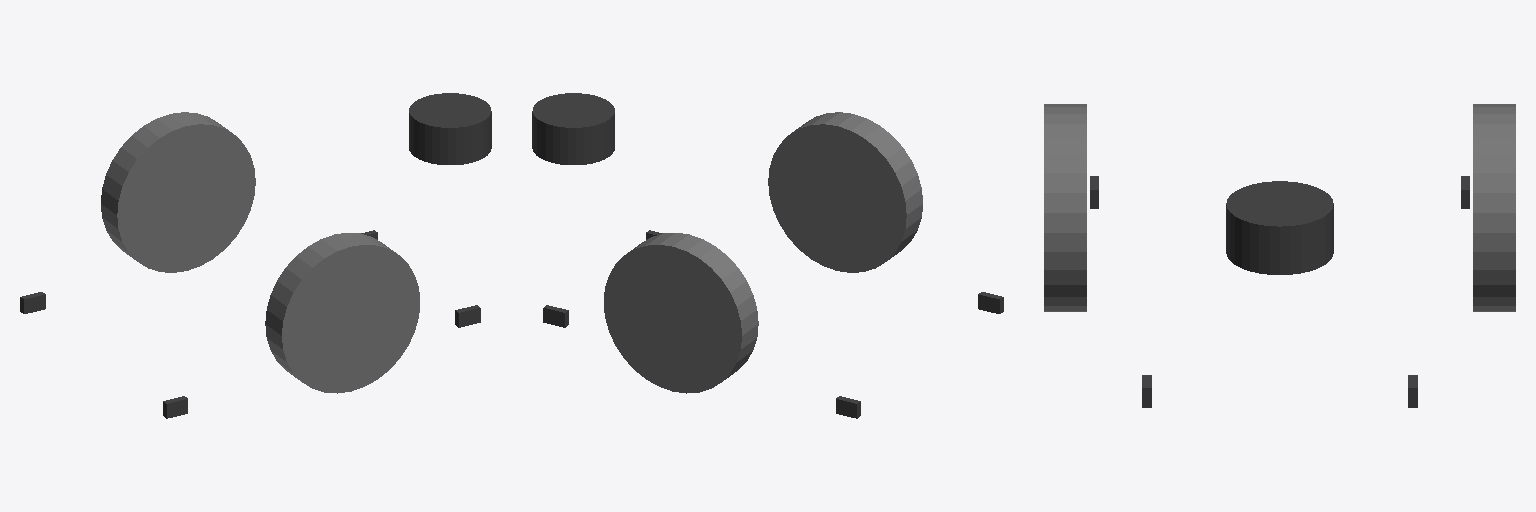
URDF robot description (pallet_amr):
<?xml version="1.0"?>

<robot xmlns:xacro="http://www.ros.org/wiki/xacro" name="pallet_amr">
  
  <link name="base_link">
  <inertial>
      <origin xyz="-0.011362 -4.2533E-05 0.1929" rpy="0 0 0" />
      <mass value="39.713" />
      <inertia ixx="0.886" ixy="-0.000271835" ixz="-2.8373E-05"
              iyy="1.3696" iyz="0.00009206" izz="1.70325" />
    </inertial>
    <visual>
      <origin xyz="0 0 0" rpy="0 0 0" />
      <geometry>
        <mesh
          filename="file:///home/ohheemin/ros2_ws/src/gazebo_test_bed/urdf/pallet_amr/meshes/base/base_link.STL" />
      </geometry>
      <material name="">
        <color rgba="0.792156862745098 0.819607843137255 0.925490196078431 1" />
      </material>
    </visual>
    <collision>
      <origin xyz="0 0 0.20" rpy="0 0 0" />
      <geometry>
        <box size="0.60 0.32 0.15" />
      </geometry>
    </collision>
  </link>

  <link name="upper_Link">
  <inertial>
    <origin xyz="-8.906531742176793e-05 -9.967567934063133e-09 0.04343908659883667" rpy="0 0 0" />
    <mass value="42.40379539952767" />
    <inertia ixx="2.768532191340667" ixy="-7.3168880844423e-07" ixz="-7.540600673085133e-06"
            iyy="4.79188823082035" iyz="8.091853689853833e-08" izz="7.09446575858375" />
  </inertial>
    <visual>
      <origin xyz="0 0 0" rpy="0 0 0" />
      <geometry>
        <mesh
          filename="file:///home/ohheemin/ros2_ws/src/gazebo_test_bed/urdf/pallet_amr/meshes/upper/upper_Link.STL" />
      </geometry>
      <material name="">
        <color rgba="0.792156862745098 0.819607843137255 0.933333333333333 1" />
      </material>
    </visual>
    <collision>
      <origin xyz="0 0 0" rpy="0 0 0" />
      <geometry>
        <mesh filename="file:///home/ohheemin/ros2_ws/src/gazebo_test_bed/urdf/pallet_amr/meshes/upper/upper_Link.STL" />
      </geometry>
    </collision>
  </link>
  <joint name="upper_joint" type="fixed">
    <origin xyz="-0.015189 0 0.38256" rpy="0 0 0" />
    <parent link="base_link" />
    <child link="upper_Link" />
  </joint>

  
  <link name="control_Link">
    <inertial>
      <origin
        xyz="-0.369333566998196 0.00141093575416524 -0.349182398611436"
        rpy="0 0 0" />
      <mass
        value="0.420849252973467" />
      <inertia
        ixx="0.000918325122027237"
        ixy="1.40329557826722E-07"
        ixz="5.17111860552687E-07"
        iyy="0.000258354800112382"
        iyz="-2.56380411024392E-07"
        izz="0.000733000766338133" />
    </inertial>
    <visual>
      <origin
        xyz="0 0 0"
        rpy="0 0 0" />
      <geometry>
        <mesh
          filename="file:///home/ohheemin/ros2_ws/src/gazebo_test_bed/urdf/pallet_amr/meshes/control/control_Link.STL" />
      </geometry>
      <material
        name="">
        <color
          rgba="0.792156862745098 0.819607843137255 0.933333333333333 1" />
      </material>
    </visual>
    <collision>
      <origin
        xyz="0 0 0"
        rpy="0 0 0" />
      <geometry>
        <mesh
          filename="file:///home/ohheemin/ros2_ws/src/gazebo_test_bed/urdf/pallet_amr/meshes/control/control_Link.STL" />
      </geometry>
    </collision>
  </link>
  <joint
    name="control_joint"
    type="fixed">
    <origin
      xyz="-0.19699 -0.000381 0.46794"
      rpy="0 0 0" />
    <parent
      link="upper_Link" />
    <child
      link="control_Link" />
    <axis
      xyz="0 0 0" />
  </joint>


  <link
    name="pallet_Link">
    <inertial>
      <origin
        xyz="0.0499988822980956 0.200000855577175 -0.00962525670211267"
        rpy="0 0 0" />
      <mass
        value="14.4096676314967" />
      <inertia
        ixx="1.03985775162232"
        ixy="2.524159247993585E-05"
        ixz="4.73712839888941E-07"
        iyy="1.63747936847568"
        iyz="-3.85080736243151E-07"
        izz="2.629809904192765" />
    </inertial>
    <visual>
      <origin
        xyz="0 0 0"
        rpy="0 0 0" />
      <geometry>
        <mesh
          filename="file:///home/ohheemin/ros2_ws/src/gazebo_test_bed/urdf/pallet_amr/meshes/pallet/pallet_Link.STL" />
      </geometry>
      <material
        name="">
        <color
          rgba="0.250980392156863 0.501960784313725 0.501960784313725 1" />
      </material>
    </visual>
    <collision>
      <origin
        xyz="0 0 0"
        rpy="0 0 0" />
      <geometry>
        <mesh
          filename="file:///home/ohheemin/ros2_ws/src/gazebo_test_bed/urdf/pallet_amr/meshes/pallet/pallet_Link.STL" />
      </geometry>
    </collision>
  </link>
  <joint
    name="pallet_joint"
    type="fixed">
    <origin
      xyz="0.14699 -0.19962 -0.13294"
      rpy="0 0 0" />
    <parent
      link="control_Link" />
    <child
      link="pallet_Link" />
    <axis
      xyz="0 0 0" />
  </joint>

  <link name="wheel_left">
    <inertial>
      <origin xyz="0 0 0" rpy="0 0 0"/>
      <mass value="1.5"/>
      <inertia 
        ixx="0.00372" ixy="0" ixz="0"
        iyy="0.00704" iyz="0"
        izz="0.00372"/>
    </inertial>
    <visual>
      <origin xyz="0 0 0" rpy="1.5708 0 0"/>
      <geometry>
        <cylinder radius="0.09684" length="0.04"/>
      </geometry>
      <material name="gray">
        <color rgba="0.5 0.5 0.5 1"/>
      </material>
    </visual>
    <collision>
      <origin xyz="0 0 0" rpy="1.5708 0 0" />
      <geometry>
        <cylinder radius="0.09684" length="0.04" />
      </geometry>
    </collision>
  </link>
  <joint name="wheel_left_joint" type="continuous">
    <origin xyz="0.0 0.1991 0.09684" rpy="0 0 0" />
    <parent link="base_link" />
    <child link="wheel_left" />
    <axis xyz="0 1 0" />
  </joint>

  <link name="wheel_right">
    <inertial>
      <origin xyz="0 0 0" rpy="0 0 0"/>
      <mass value="1.5"/>
      <inertia 
        ixx="0.00372" ixy="0" ixz="0"
        iyy="0.00704" iyz="0"
        izz="0.00372"/>
    </inertial>
    <visual>
      <origin xyz="0 0 0" rpy="1.5708 0 0"/>
      <geometry>
        <cylinder radius="0.09684" length="0.04"/>
      </geometry>
      <material name="gray">
        <color rgba="0.5 0.5 0.5 1"/>
      </material>
    </visual>
    <collision>
      <origin xyz="0 0 0" rpy="1.5708 0 0" />
      <geometry>
        <cylinder radius="0.09684" length="0.04" />
      </geometry>
    </collision>
  </link>
  <joint name="wheel_right_joint" type="continuous">
    <origin xyz="0.0 -0.1991 0.09684" rpy="0 0 0" />
    <parent link="base_link" />
    <child link="wheel_right" />
    <axis xyz="0 1 0" />
  </joint>

  <joint name="caster_front_left_joint" type="fixed">
    <origin xyz="0.2182 0.1238 0.011" rpy="0 0 0"/>
    <parent link="base_link"/>
    <child link="caster_front_left"/>
  </joint>

  <link name="caster_front_left">
    <visual>
      <origin xyz="0 0 0" rpy="0 0 0"/>
      <geometry>
        <box size="0.030 0.009 0.020"/>
      </geometry>
      <material name="grey">
        <color rgba="0.3 0.3 0.3 1.0"/>
      </material>
    </visual>
    <collision>
      <origin xyz="0 0 0" rpy="0 0 0"/>
      <geometry>
        <box size="0.030 0.009 0.020"/>
      </geometry>
    </collision>
    <inertial>
      <origin xyz="0 0 0"/>
      <mass value="0.005"/>
      <inertia ixx="2.0e-7" ixy="0" ixz="0"
              iyy="5.42e-7" iyz="0"
              izz="4.09e-7"/>
    </inertial>
  </link>

  <joint name="caster_front_right_joint" type="fixed">
    <origin xyz="0.2182 -0.1238 0.011" rpy="0 0 0"/>
    <parent link="base_link"/>
    <child link="caster_front_right"/>
  </joint>

  <link name="caster_front_right">
    <visual>
      <origin xyz="0 0 0" rpy="0 0 0"/>
      <geometry>
        <box size="0.030 0.009 0.020"/>
      </geometry>
      <material name="grey">
        <color rgba="0.3 0.3 0.3 1.0"/>
      </material>
    </visual>
    <collision>
      <origin xyz="0 0 0" rpy="0 0 0"/>
      <geometry>
        <box size="0.030 0.009 0.020"/>
      </geometry>
    </collision>
    <inertial>
      <origin xyz="0 0 0"/>
      <mass value="0.005"/>
      <inertia ixx="2.0e-7" ixy="0" ixz="0"
              iyy="5.42e-7" iyz="0"
              izz="4.09e-7"/>
    </inertial>
  </link>

  <joint name="caster_back_left_joint" type="fixed">
    <origin xyz="-0.2182 0.1725 0.011" rpy="0 0 0"/>
    <parent link="base_link"/>
    <child link="caster_back_left"/>
  </joint>

  <link name="caster_back_left">
    <visual>
      <origin xyz="0 0 0" rpy="0 0 0"/>
      <geometry>
        <box size="0.030 0.009 0.020"/>
      </geometry>
      <material name="grey">
        <color rgba="0.3 0.3 0.3 1.0"/>
      </material>
    </visual>
    <collision>
      <origin xyz="0 0 0" rpy="0 0 0"/>
      <geometry>
        <box size="0.030 0.009 0.020"/>
      </geometry>
    </collision>
    <inertial>
      <origin xyz="0 0 0"/>
      <mass value="0.005"/>
      <inertia ixx="2.0e-7" ixy="0" ixz="0"
              iyy="5.42e-7" iyz="0"
              izz="4.09e-7"/>
    </inertial>
  </link>

  <joint name="caster_back_right_joint" type="fixed">
    <origin xyz="-0.2182 -0.1725 0.011" rpy="0 0 0"/>
    <parent link="base_link"/>
    <child link="caster_back_right"/>
  </joint>

  <link name="caster_back_right">
    <visual>
      <origin xyz="0 0 0" rpy="0 0 0"/>
      <geometry>
        <box size="0.030 0.009 0.020"/>
      </geometry>
      <material name="grey">
        <color rgba="0.3 0.3 0.3 1.0"/>
      </material>
    </visual>
    <collision>
      <origin xyz="0 0 0" rpy="0 0 0"/>
      <geometry>
        <box size="0.030 0.009 0.020"/>
      </geometry>
    </collision>
    <inertial>
      <origin xyz="0 0 0"/>
      <mass value="0.005"/>
      <inertia ixx="2.0e-7" ixy="0" ixz="0"
              iyy="5.42e-7" iyz="0"
              izz="4.09e-7"/>
    </inertial>
  </link>

  <link name="base_scan">
    <inertial>
      <origin xyz="0 0 0" rpy="0 0 0" />
      <!-- Small mass and inertia for the sensor frame -->
      <mass value="0.05" />
      <inertia ixx="0.0001" ixy="0" ixz="0"
               iyy="0.0001" iyz="0" izz="0.0001" />
    </inertial>
    <!-- Small cylinder to represent the sensor mount -->
    <visual>
      <origin xyz="0 0 0" rpy="0 0 0" />
      <geometry>
        <cylinder radius="0.05" length="0.05" />
      </geometry>
      <material name="black">
        <color rgba="0.3 0.3 0.3 1" />
      </material>
    </visual>
    <collision>
      <origin xyz="0 0 0" rpy="0 0 0" />
      <geometry>
        <cylinder radius="0.05" length="0.05" />
      </geometry>
    </collision>
  </link>
  <joint name="scan_joint" type="fixed">
    <!-- Position the sensor above the chassis to avoid mesh overlap -->
    <origin xyz="0.265 0 0.20" rpy="0 0 0" />
    <parent link="base_link" />
    <child link="base_scan" />
  </joint>

<gazebo reference="caster_front_left">
  <surface>
    <friction>
      <ode>
        <mu>0.0</mu>
        <mu2>0.0</mu2>
        <slip1>1.0</slip1>
        <slip2>1.0</slip2>
      </ode>
    </friction>
  </surface>
</gazebo>

<gazebo reference="caster_front_right">
  <surface>
    <friction>
      <ode>
        <mu>0.0</mu>
        <mu2>0.0</mu2>
        <slip1>1.0</slip1>
        <slip2>1.0</slip2>
      </ode>
    </friction>
  </surface>
</gazebo>

<gazebo reference="caster_back_left">
  <surface>
    <friction>
      <ode>
        <mu>0.0</mu>
        <mu2>0.0</mu2>
        <slip1>1.0</slip1>
        <slip2>1.0</slip2>
      </ode>
    </friction>
  </surface>
</gazebo>

<gazebo reference="caster_back_right">
  <surface>
    <friction>
      <ode>
        <mu>0.0</mu>
        <mu2>0.0</mu2>
        <slip1>1.0</slip1>
        <slip2>1.0</slip2>
      </ode>
    </friction>
  </surface>
</gazebo>

  <!-- Gazebo properties for base_scan link -->
  <gazebo reference="base_scan">
    <material>Gazebo/FlatBlack</material>
  </gazebo>

  
  <!-- [플러그인 블록] 각 기능별 Gazebo/ROS2 플러그인 자동 삽입 -->
  
  
  <!-- [DiffDrive] 차동구동 플러그인: cmd_vel/odom/tf 토픽, 조인트/파라미터 설정 -->
  <gazebo>
    <plugin
      filename="gz-sim-diff-drive-system"
      name="gz::sim::systems::DiffDrive">
      <!-- 네임스페이스 제거 - 글로벌 토픽 사용 -->
      <topic>cmd_vel</topic>
      <odom_topic>odom</odom_topic>
      <tf_topic>tf</tf_topic>
      <left_joint>wheel_left_joint</left_joint>
      <right_joint>wheel_right_joint</right_joint>
      <wheel_separation>0.16</wheel_separation>
      <wheel_radius>0.033</wheel_radius>
      <odom_publish_frequency>30</odom_publish_frequency>
      <frame_id>odom</frame_id>
      <child_frame_id>base_link</child_frame_id>
      
      <max_wheel_torque>20</max_wheel_torque>
      
      
      <max_wheel_acceleration>5.0</max_wheel_acceleration>
      
      
      <max_linear_velocity>0.22</max_linear_velocity>
      
      
      <max_angular_velocity>2.84</max_angular_velocity>
      
      
      <min_linear_velocity>-0.22</min_linear_velocity>
      
      
      <min_angular_velocity>-2.84</min_angular_velocity>
      
      
      <publish_wheel_joint_state>true</publish_wheel_joint_state>
      
      <publish_odom>true</publish_odom>
      
      <publish_odom_tf>true</publish_odom_tf>
      
    </plugin>
  </gazebo>
  
  
  
  
  <!-- [Lidar] 센서 플러그인: GPU Ray 기반 라이다 센서 설정 -->
  <gazebo reference="base_scan">
    <sensor name="hls_lfcd_lds" type="gpu_ray">
      <pose>-0.032 0 0.171 0 0 0</pose>
      <always_on>1</always_on>
      <visualize>true</visualize>
      <update_rate>30</update_rate>
      <topic>pallet_amr/scan</topic>
      <ignition_frame_id>base_scan</ignition_frame_id>
      <ray>
        <scan>
          <horizontal>
            <samples>360</samples>
            <resolution>1</resolution>
            <min_angle>-3.14159</min_angle>
            <max_angle>3.14159</max_angle>
          </horizontal>
        </scan>
        <range>
          <min>0.12</min>
          <max>3.5</max>
          <resolution>0.015</resolution>
        </range>
        <noise>
          <type>gaussian</type>
          <mean>0.0</mean>
          <stddev>0.01</stddev>
        </noise>
      </ray>
    </sensor>
  </gazebo>
  
  
  
  
  <!-- [JointStatePublisher] 조인트 상태 퍼블리셔 플러그인 -->
  <gazebo>
    <plugin
      filename="gz-sim-joint-state-publisher-system"
      name="gz::sim::systems::JointStatePublisher">
      
      <ros>
        <namespace>pallet_amr</namespace>
        <remapping>joint_states:=joint_states</remapping>
      </ros>
      
      <topic>joint_states</topic>
      <update_rate>30</update_rate>
      
      <joint_name>wheel_left_joint</joint_name>
      
      <joint_name>wheel_right_joint</joint_name>
      
    </plugin>
  </gazebo>
  
  
  
  
  <!-- [구버전 lidar] 플러그인 블록은 생략됨 (센서 블록으로 대체) -->
  
  
  

  <!-- [Wheel Joint] 바퀴 조인트의 Gazebo 동적 속성(마찰/댐핑) 설정 -->
  <gazebo reference="wheel_left_joint">
    <provideFeedback>true</provideFeedback>
    <dynamics>
      <damping>0.0</damping>
      <friction>0.0</friction>
    </dynamics>
  </gazebo>
  
  <gazebo reference="wheel_right_joint">
    <provideFeedback>true</provideFeedback>
    <dynamics>
      <damping>0.0</damping>
      <friction>0.0</friction>
    </dynamics>
  </gazebo>

  <!-- [Lidar 센서] sensor_frame 아래에 라이다 센서 추가 -->
  
  <gazebo reference="base_scan">

    <sensor name="hls_lfcd_lds_2" type="gpu_ray">
      <pose>0 0 0 0 0 0</pose>
      <update_rate>10</update_rate>
      <topic>pallet_amr/scan</topic>
      <ignition_frame_id>base_scan</ignition_frame_id>
      <ray>
        <scan>
          <horizontal>
            <samples>360</samples>
            <resolution>1</resolution>
            <min_angle>-3.14159</min_angle>
            <max_angle>3.14159</max_angle>
          </horizontal>
        </scan>
        <range>
          <min>0.12</min>
          <max>3.5</max>
          <resolution>0.01</resolution>
        </range>
      </ray>
    </sensor>
  </gazebo>
  
  

</robot>

--- What the picture shows (computed from the rendered views, not written in the file) ---
The picture shows the robot from 3 angles, left to right: view 1: azimuth 30°, elevation 25°; view 2: azimuth 150°, elevation 25°; view 3: azimuth 270°, elevation 25°; orthographic projection.
Model pallet_amr with 11 links and 10 joints (2 continuous, 8 fixed), rooted at base_link, posed all joints at 0.
Links seen in each view (by area): view 1: wheel_right, wheel_left, base_scan; view 2: wheel_left, wheel_right, base_scan; view 3: base_scan, wheel_left, wheel_right.
Link boxes in pixels (x1,y1,x2,y2): wheel_right: [265, 233, 419, 393]; wheel_left: [101, 112, 255, 272]; base_scan: [409, 93, 491, 164]; wheel_left: [604, 233, 758, 393]; wheel_right: [768, 112, 922, 272]; base_scan: [532, 93, 614, 164]; base_scan: [1226, 181, 1333, 274]; wheel_left: [1473, 104, 1515, 311]; wheel_right: [1044, 104, 1086, 311].
Bounding box of the posed robot: 0.5482 × 0.4382 × 0.225 m (x, y, z).
Geometry: only primitive shapes (box / cylinder / sphere) drawn; not drawn: 4 mesh visuals (reference in a form the renderer does not follow).
